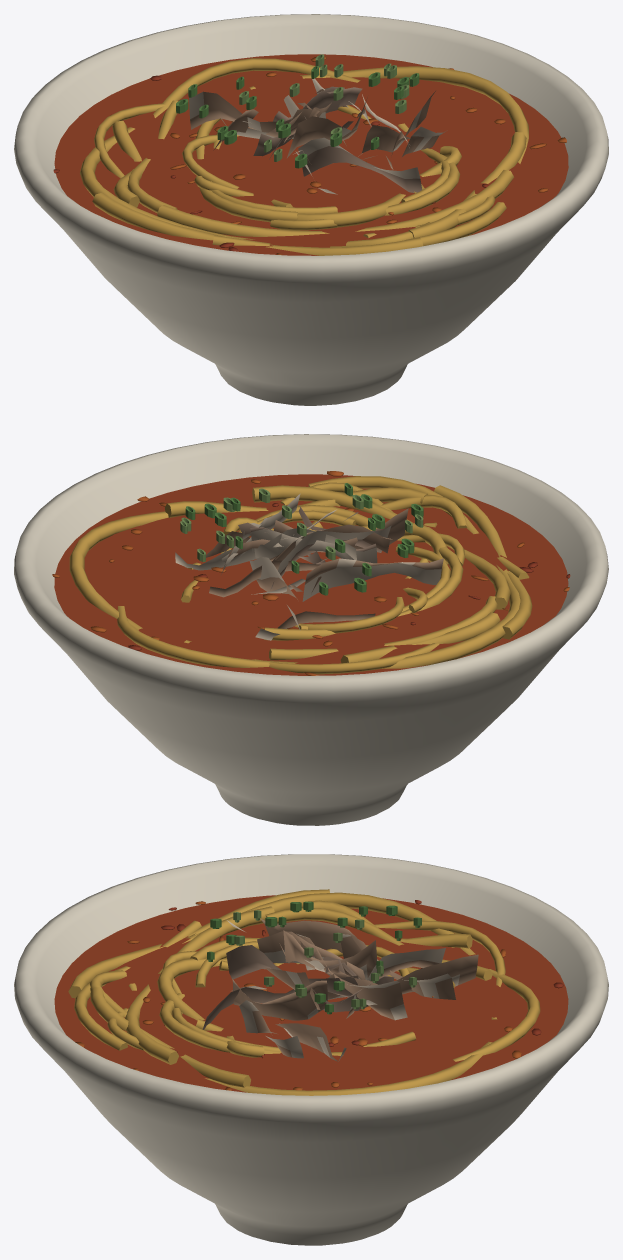
The model's file is mala.glb.
3 views of the same model, one above another, from view 1: azimuth 30°, elevation 25°; view 2: azimuth 150°, elevation 25°; view 3: azimuth 270°, elevation 25° (orthographic).
Parts seen in each view (by area): view 1: FP218_mala; view 2: FP218_mala; view 3: FP218_mala.
Part boxes in pixels (box(x1,y1,x2,y2)): FP218_mala: box(14, 14, 608, 405); FP218_mala: box(14, 434, 608, 825); FP218_mala: box(14, 854, 608, 1245).
Bounding box in the file's own units: 0.2938 × 0.1489 × 0.2939.
